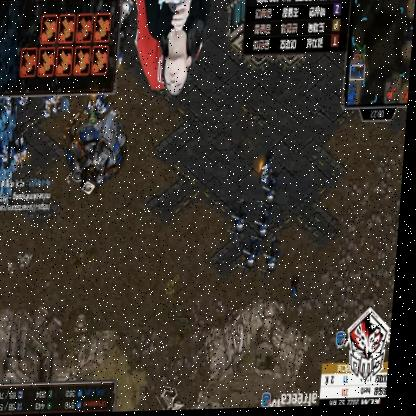streamer: (137, 0, 210, 98)
